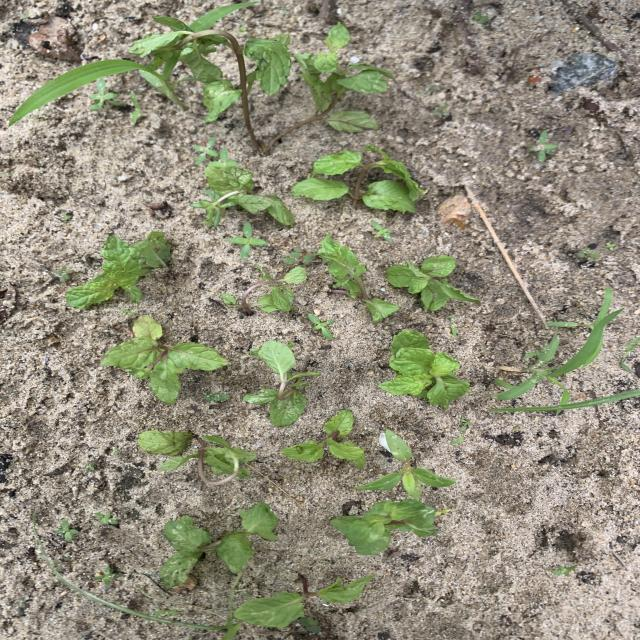crop: (130, 20, 291, 121), (267, 24, 391, 149), (102, 316, 227, 402), (160, 502, 277, 587), (296, 146, 427, 211), (66, 231, 170, 307), (233, 573, 374, 628), (191, 158, 293, 226), (320, 234, 398, 321), (382, 330, 470, 406), (244, 342, 319, 425), (139, 432, 255, 484), (332, 498, 437, 554), (386, 256, 480, 310), (281, 410, 366, 468), (222, 265, 306, 313)
weed: (54, 572, 240, 640), (497, 309, 622, 399), (10, 60, 180, 125), (356, 429, 456, 500), (229, 223, 266, 258), (90, 79, 119, 110), (529, 130, 557, 161), (194, 137, 218, 163), (309, 314, 333, 338), (56, 520, 78, 541), (95, 565, 120, 583), (285, 249, 314, 264), (373, 221, 391, 240), (300, 617, 320, 631), (579, 247, 599, 261), (95, 512, 118, 523), (56, 267, 71, 281), (553, 566, 575, 575), (155, 607, 179, 615), (205, 393, 228, 401), (450, 315, 458, 336), (433, 105, 449, 115), (475, 13, 488, 22), (461, 419, 471, 429), (604, 242, 615, 251), (85, 464, 94, 470)
